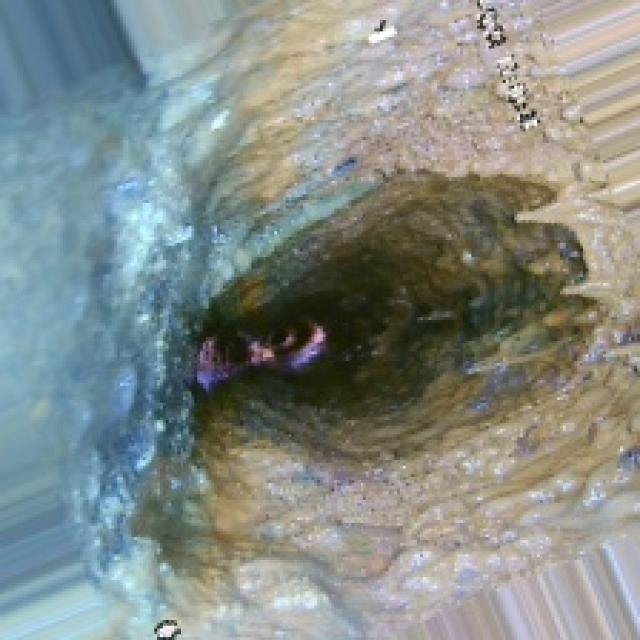encrustation: (248, 54, 632, 520)
